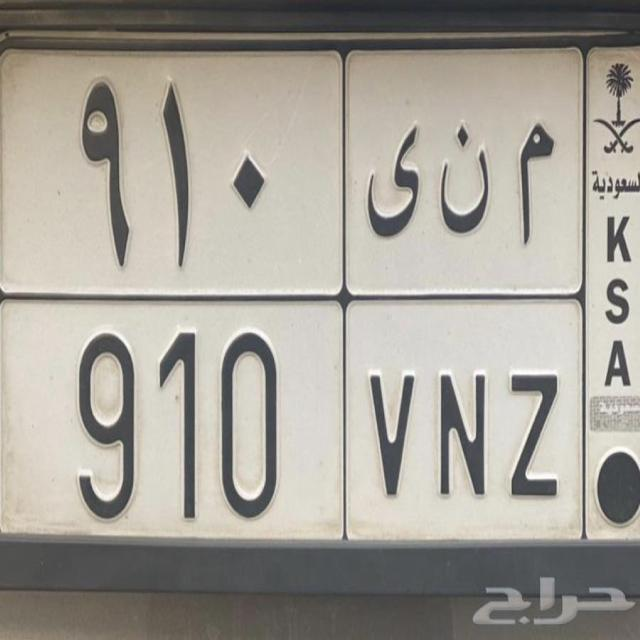license_plate: (0, 288, 593, 556)
